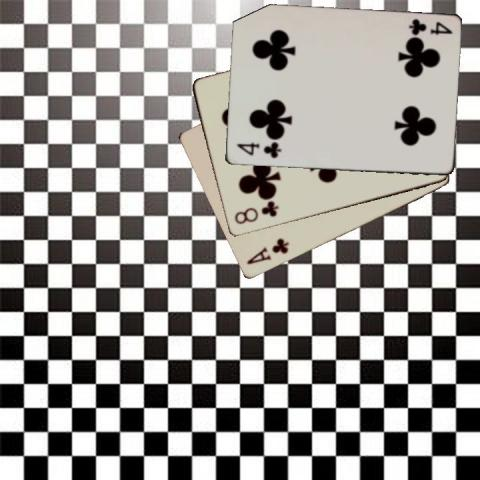4c: (406, 16, 454, 37), (233, 140, 283, 160)
8c: (231, 199, 280, 226)
Ac: (243, 235, 290, 267)
